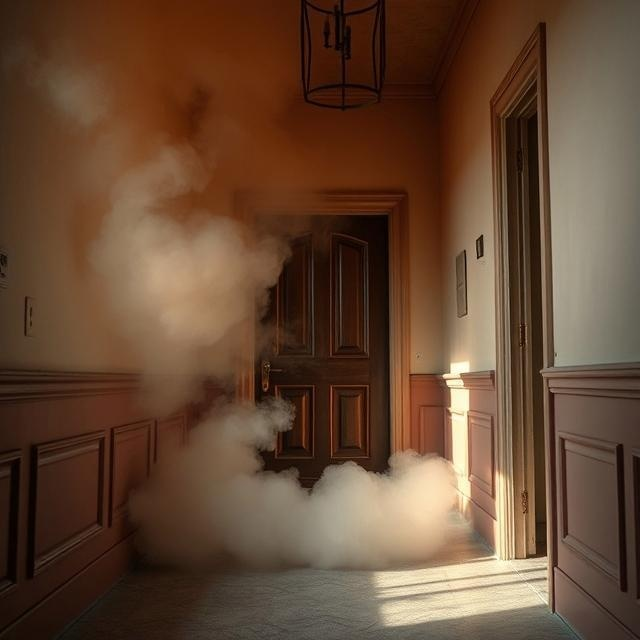smoke: (7, 79, 499, 575)
